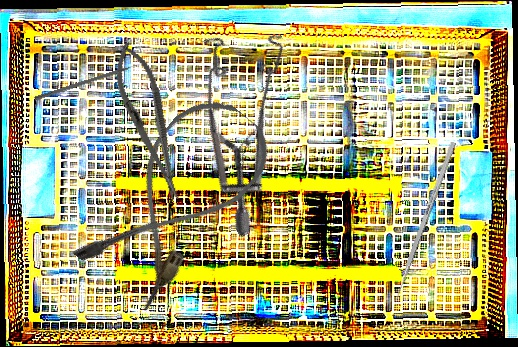Cannula: (68, 82, 283, 314)
Hook Surgical: (34, 61, 145, 102)
Needle Holder: (104, 37, 194, 207)
Pusher: (389, 141, 457, 311)
Speculum: (153, 8, 355, 238)
